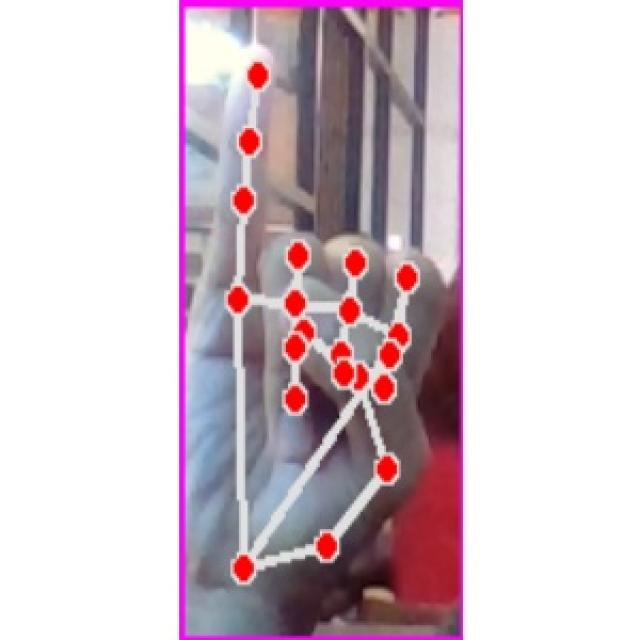I: (187, 32, 439, 603)
